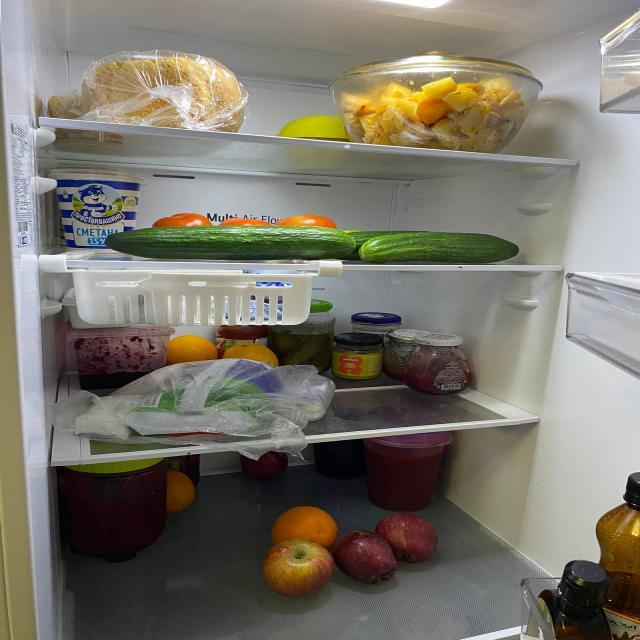Apple: (268, 543, 332, 598), (334, 528, 394, 583), (381, 516, 438, 559), (241, 445, 287, 485)
Cucumber: (110, 232, 353, 253), (358, 237, 526, 261), (342, 228, 438, 241)
Orange: (272, 502, 335, 547), (162, 337, 222, 365), (164, 470, 194, 511), (222, 343, 270, 363)
Tomato: (274, 214, 340, 232), (158, 211, 210, 231), (218, 217, 268, 228)
